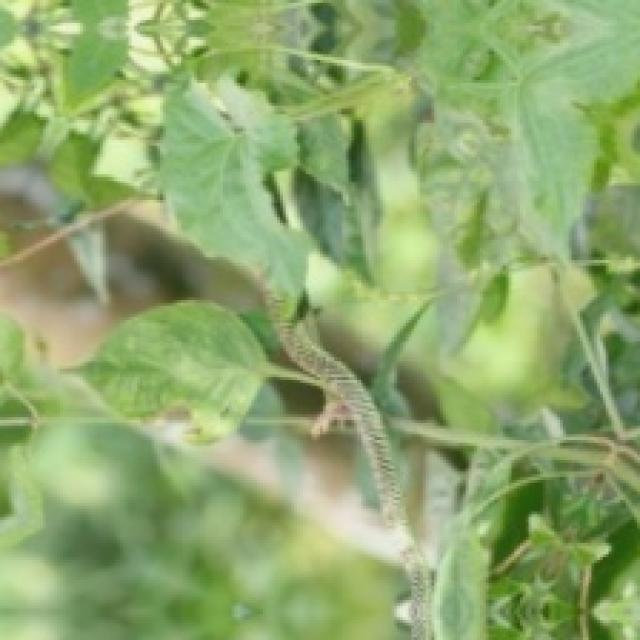paradise tree snake: (263, 280, 431, 637)
